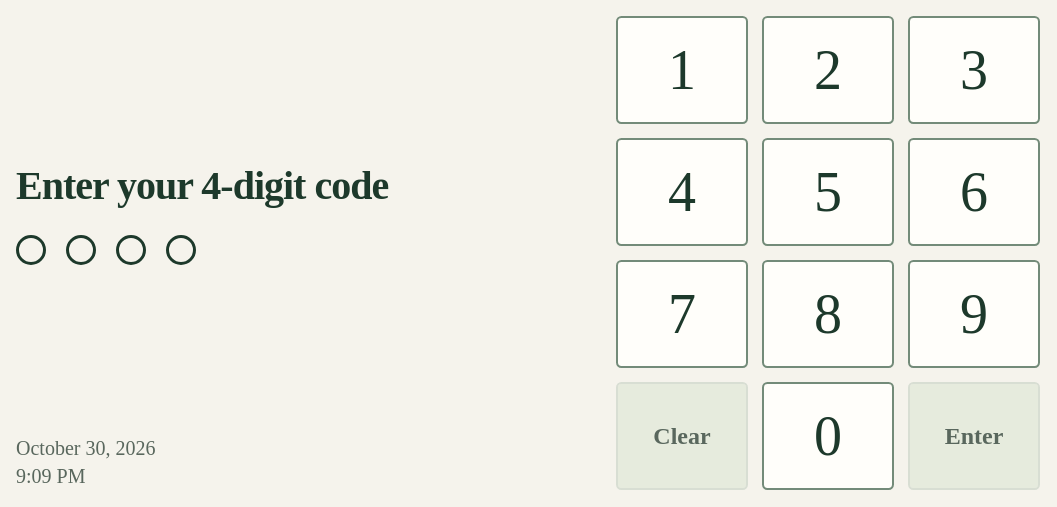
Test case: digit-count status and keys (en) › Enter stays disabled until four digits are in; Clear is disabled while there is nothing to clear
Expected: the button "Enter" is disabled, [908,382,1040,490]
Expected: the button "Clear" is disabled, [616,382,748,490]
Click the button "1" at coordinates (682, 70), box [616,16,748,124]
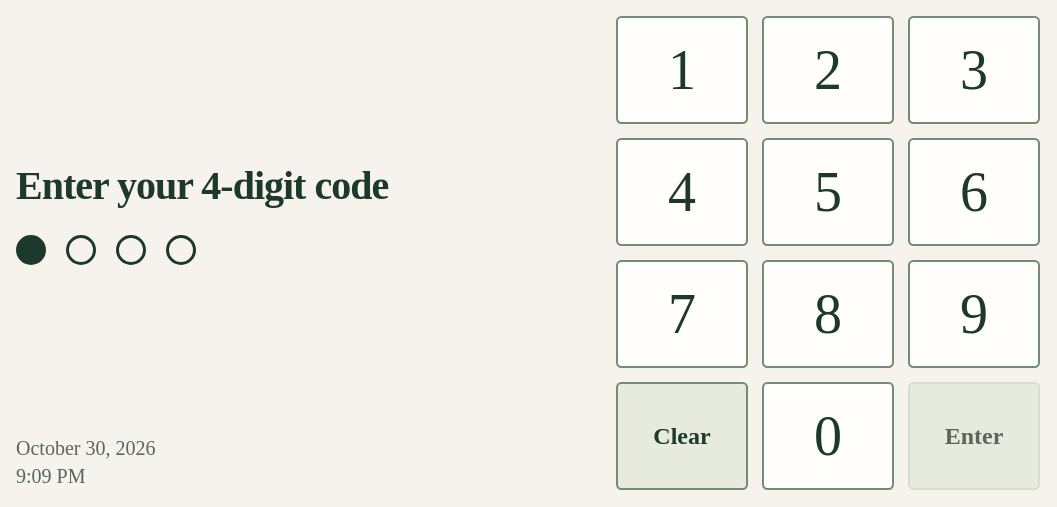
Click the button "2" at coordinates (828, 70), box [762,16,894,124]
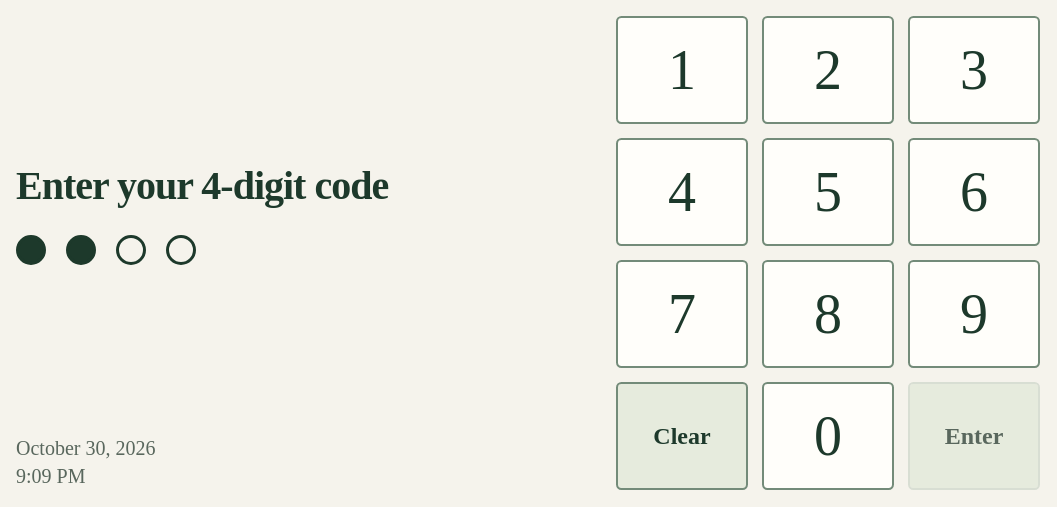
Click the button "3" at coordinates (974, 70), box [908,16,1040,124]
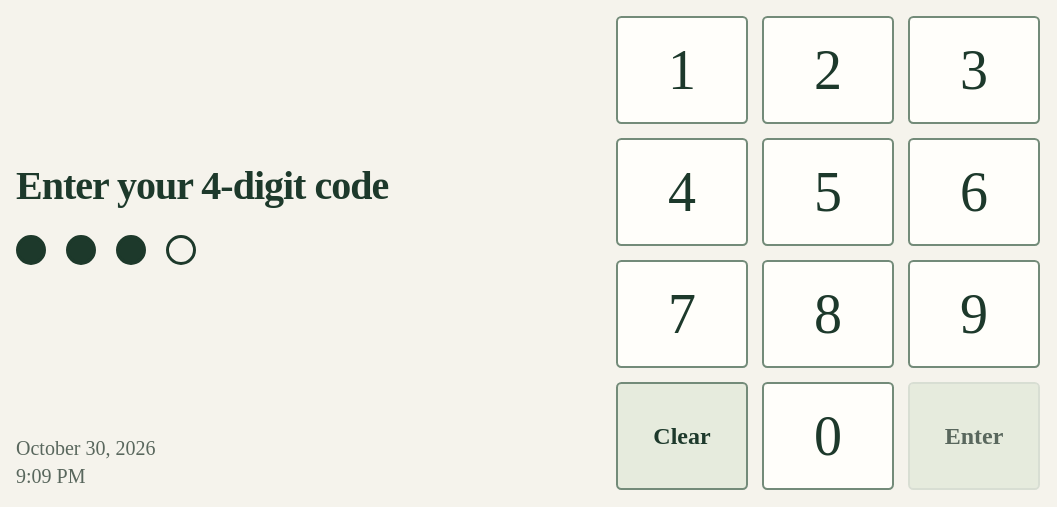
Expected: the button "Enter" is disabled, [908,382,1040,490]
Result: the button "Clear" is enabled at [616,382,748,490]
Click the button "4" at coordinates (682, 192), box [616,138,748,246]
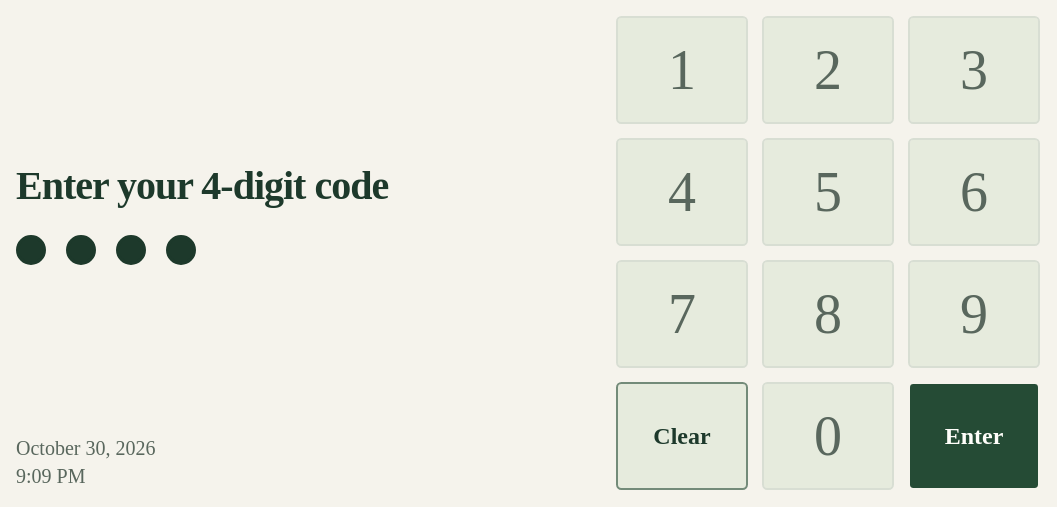
Result: the button "Enter" is enabled at [908,382,1040,490]
Result: the button "5" is disabled at [762,138,894,246]
